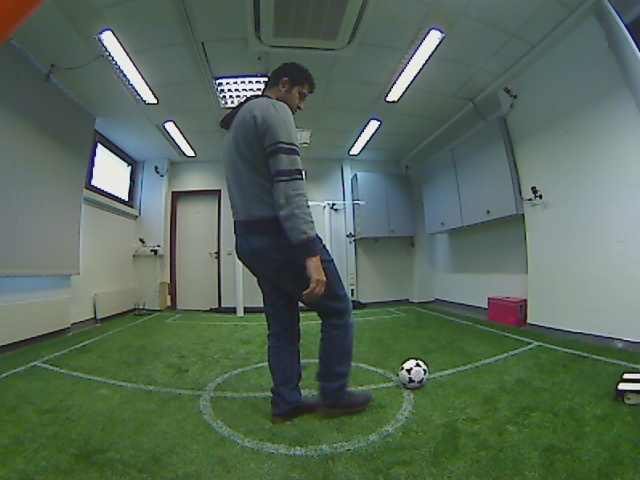ball: (394, 354, 431, 393)
